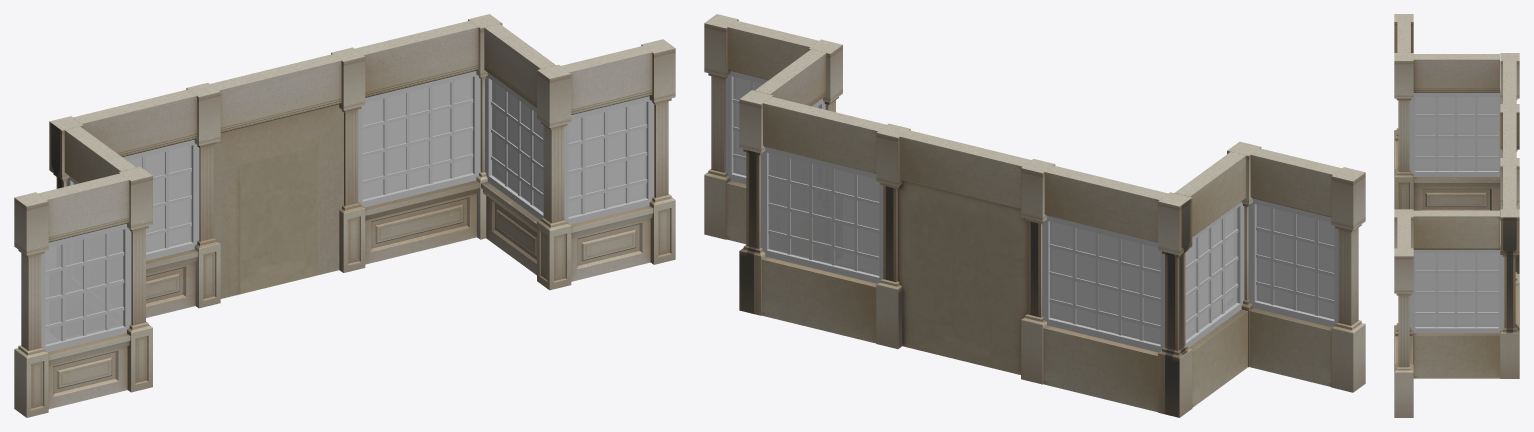
File: porch_frame.fbx
3 renders of one model, left to right at view 1: azimuth 30°, elevation 25°; view 2: azimuth 150°, elevation 25°; view 3: azimuth 270°, elevation 25°, orthographic. The views are drawn at different scales.
Parts seen in each view (by area): view 1: frame, glass; view 2: frame, glass; view 3: frame, glass.
Part boxes in pixels (box(x1,y1,x2,y2)): frame: box(14, 14, 675, 417); glass: box(45, 77, 646, 344); frame: box(704, 14, 1365, 417); glass: box(733, 77, 1334, 344); frame: box(1394, 14, 1519, 417); glass: box(1415, 97, 1498, 326).
Bounding box in the file's own units: 12.64 × 3.93 × 2.76.
